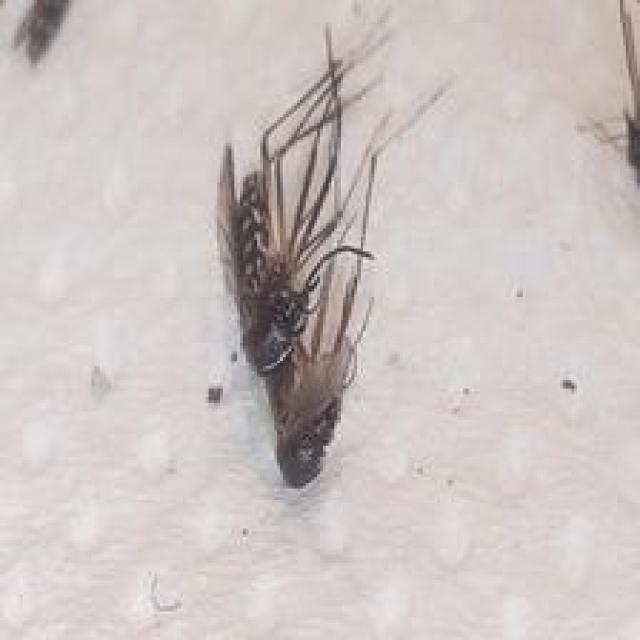Aedes albopictus: (207, 14, 453, 489)
